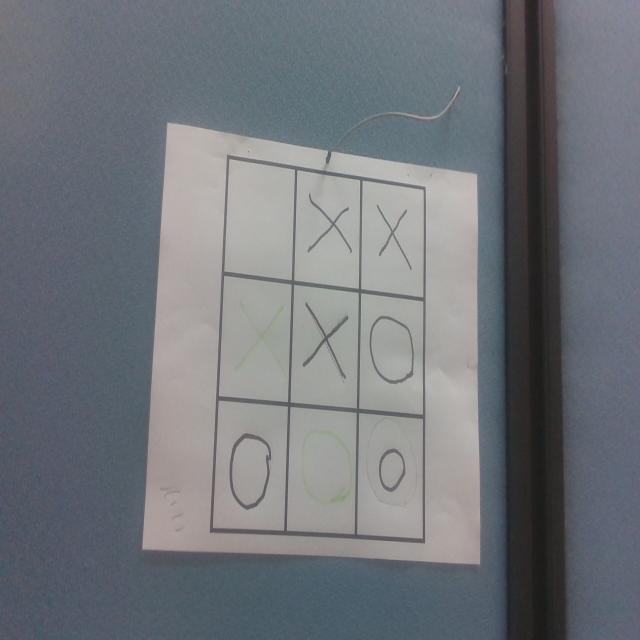null: (226, 158, 294, 282)
o: (300, 429, 355, 507), (368, 313, 415, 384), (228, 431, 271, 508), (378, 447, 406, 492)
table: (212, 152, 423, 541)
x: (236, 276, 288, 378), (305, 304, 347, 382), (307, 197, 354, 258), (376, 204, 412, 272)
